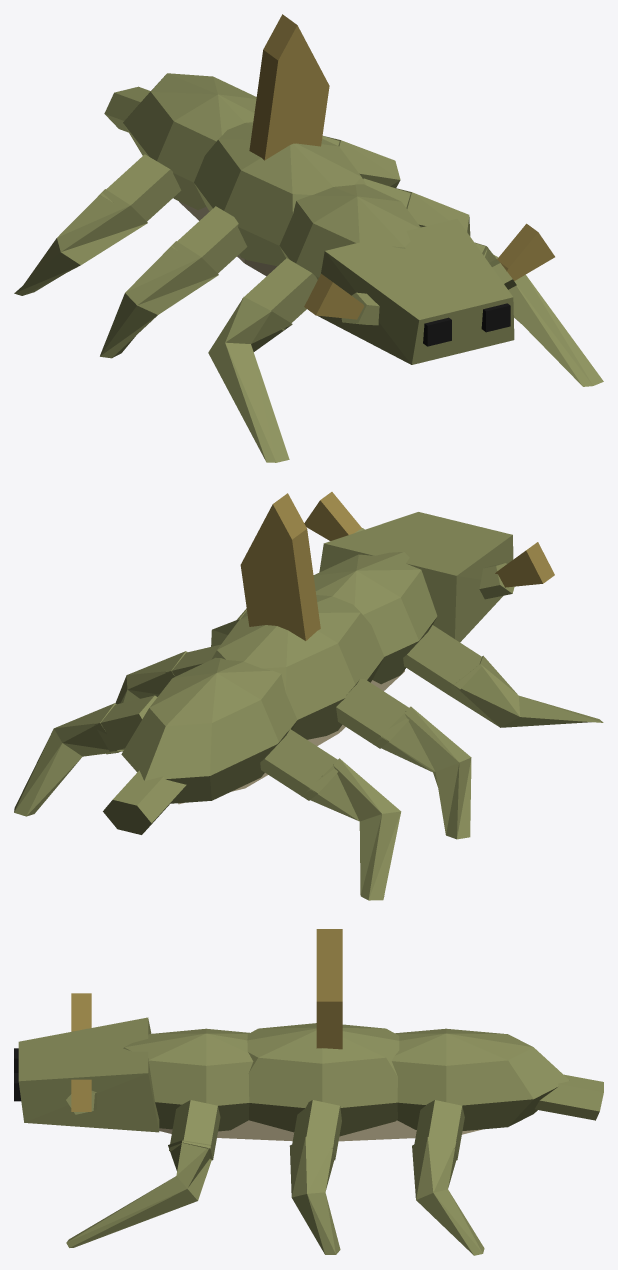
The model's file is pithnip.glb.
3 renders of one model, top to bottom at view 1: azimuth 30°, elevation 25°; view 2: azimuth 150°, elevation 25°; view 3: azimuth 270°, elevation 25°, orthographic. The views are drawn at different scales.
Visible parts, largest first — view 1: Pithnip; view 2: Pithnip; view 3: Pithnip.
Part boxes in pixels (<box>): Pithnip: <box>14,14,603,462</box>; Pithnip: <box>14,492,603,900</box>; Pithnip: <box>14,929,603,1255</box>.
Bounding box in the file's own units: 0.4 × 0.3 × 0.64.
